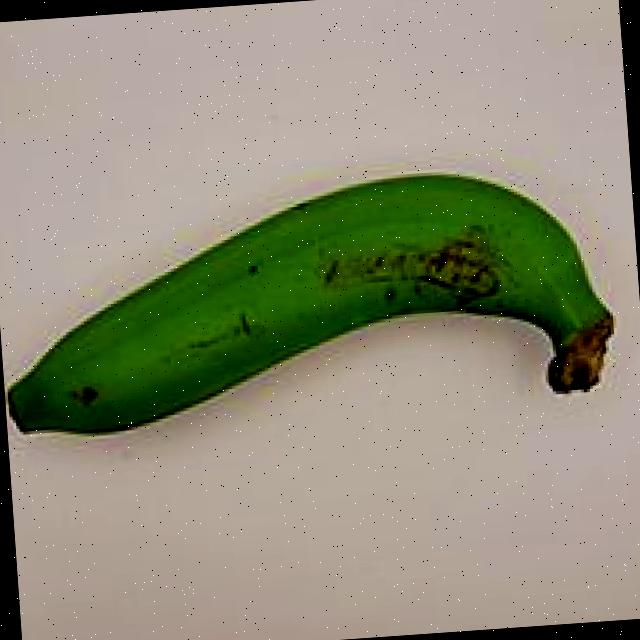Raw: (0, 134, 633, 487)
